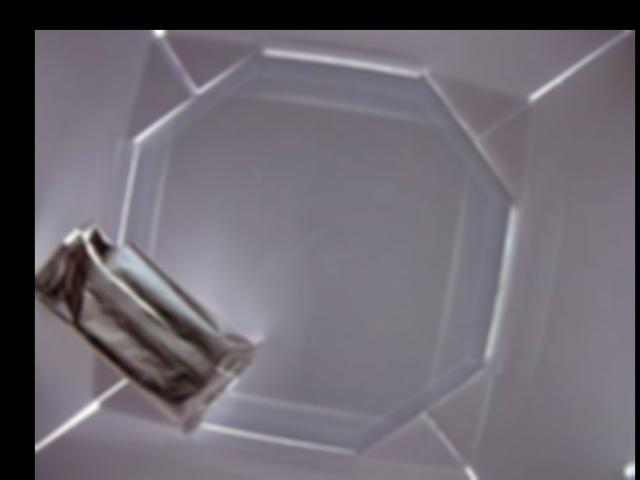Medicine: (34, 221, 265, 437)
